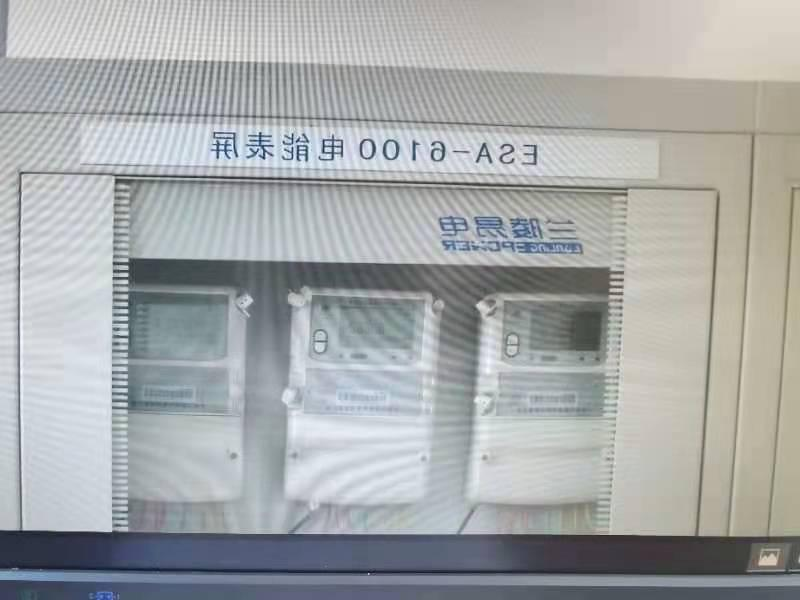digital: (283, 288, 432, 504), (474, 293, 605, 506), (127, 289, 243, 500)
